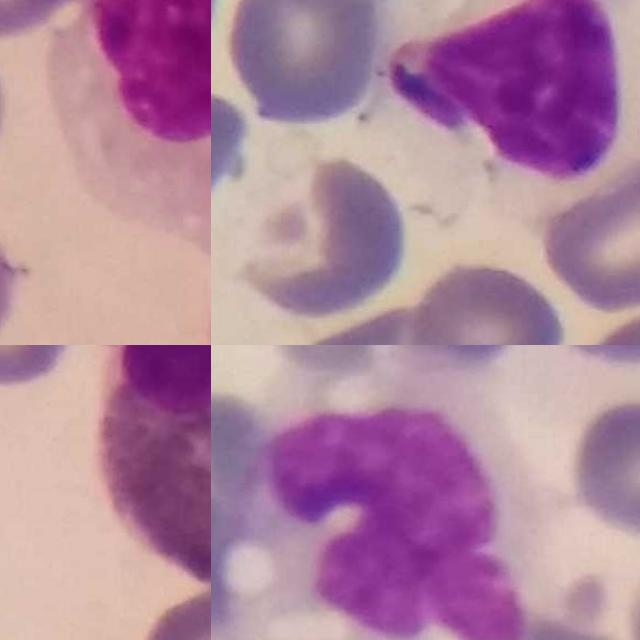Eosinophil: (94, 345, 211, 596)
Lymphocyte: (376, 0, 640, 196)
Monocyte: (225, 367, 550, 640), (62, 0, 211, 243)
